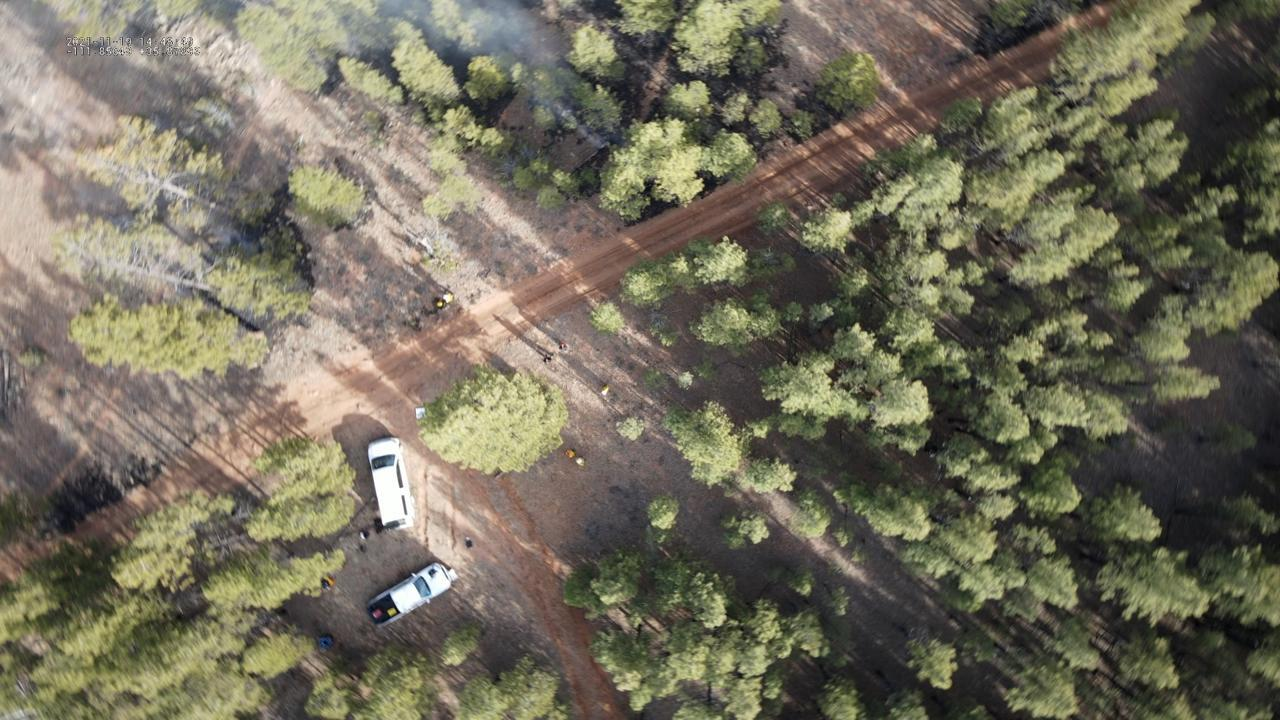smoke: (346, 0, 620, 154)
